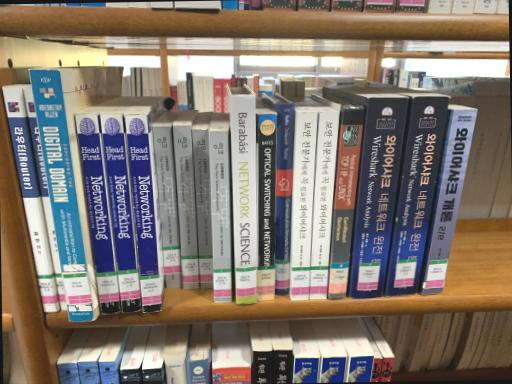book-spine: (29, 70, 94, 322), (386, 97, 450, 296), (2, 86, 57, 312), (350, 98, 409, 299), (420, 110, 478, 294), (24, 87, 68, 310), (75, 114, 120, 314), (100, 114, 141, 313), (125, 114, 162, 313), (328, 105, 365, 300), (231, 95, 258, 305), (310, 112, 340, 299), (291, 113, 317, 300), (153, 126, 181, 288), (173, 125, 200, 289), (209, 131, 232, 302), (258, 114, 277, 301), (276, 103, 293, 295), (193, 129, 213, 288)
